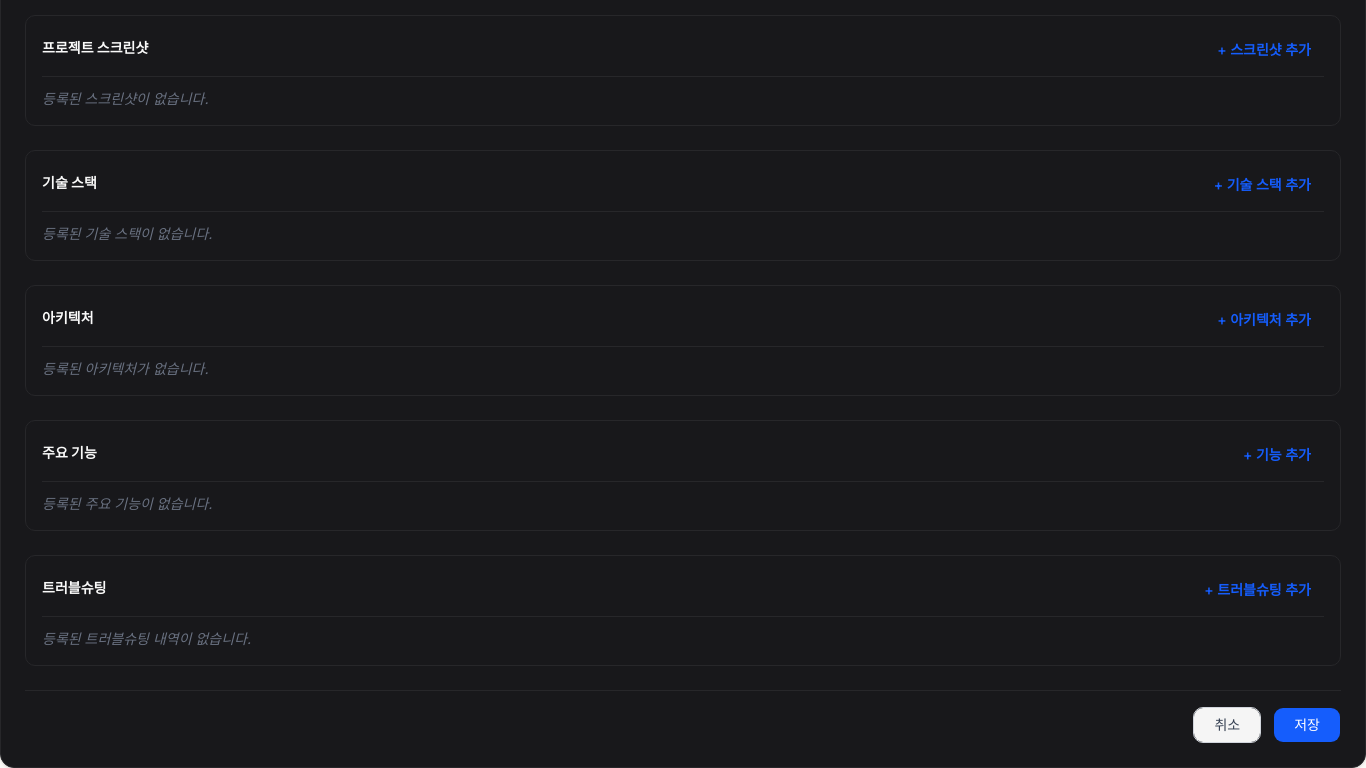
Test: ProjectForm 컴포넌트 › 주요 기능(Key Feature) 항목 추가 버튼 클릭 시 새로운 필드가 렌더링되어야 한다
The image size is (1366, 768).
(page scrolled)
Click the button "+ 기능 추가".
click(1277, 455)  # box left=1230, top=437, right=1324, bottom=473
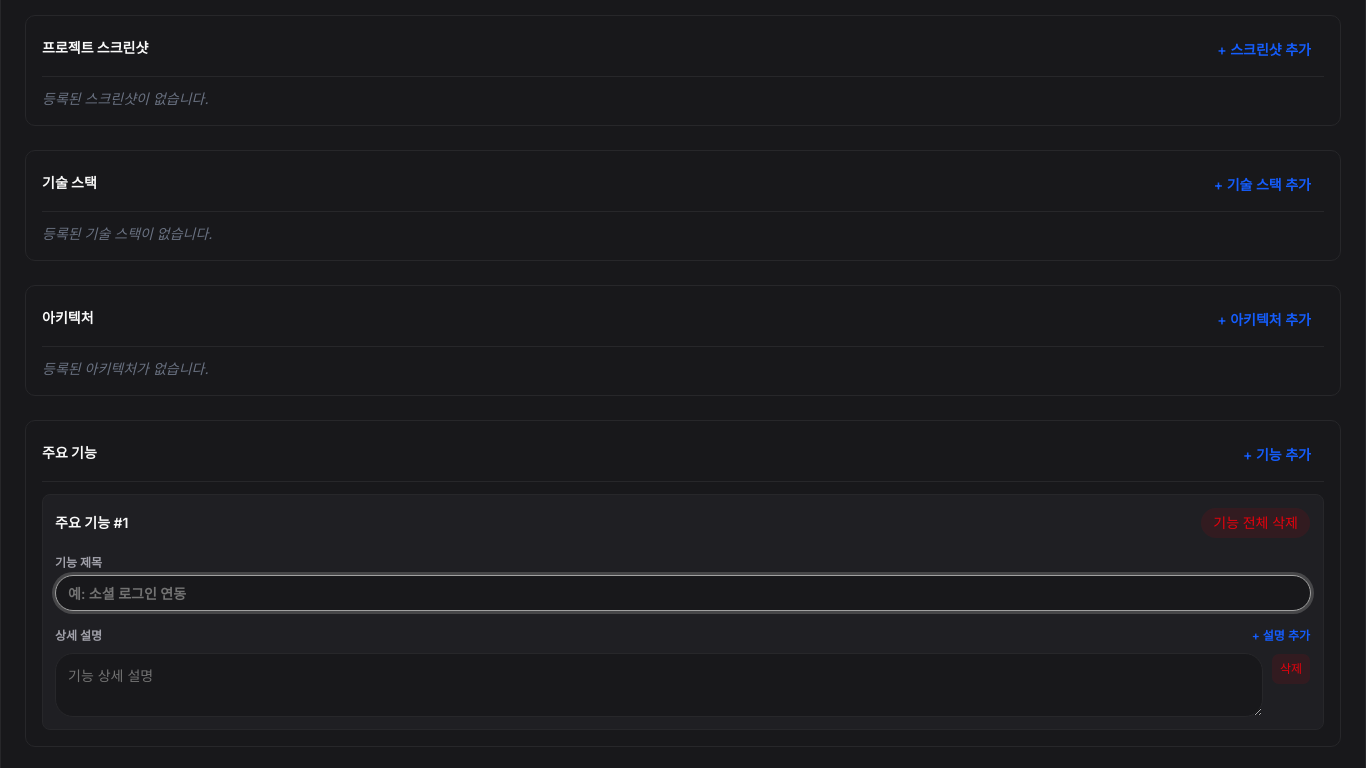
Expected: the field with placeholder "예: 소셜 로그인 연동" is shown, left=55, top=575, right=1311, bottom=611
